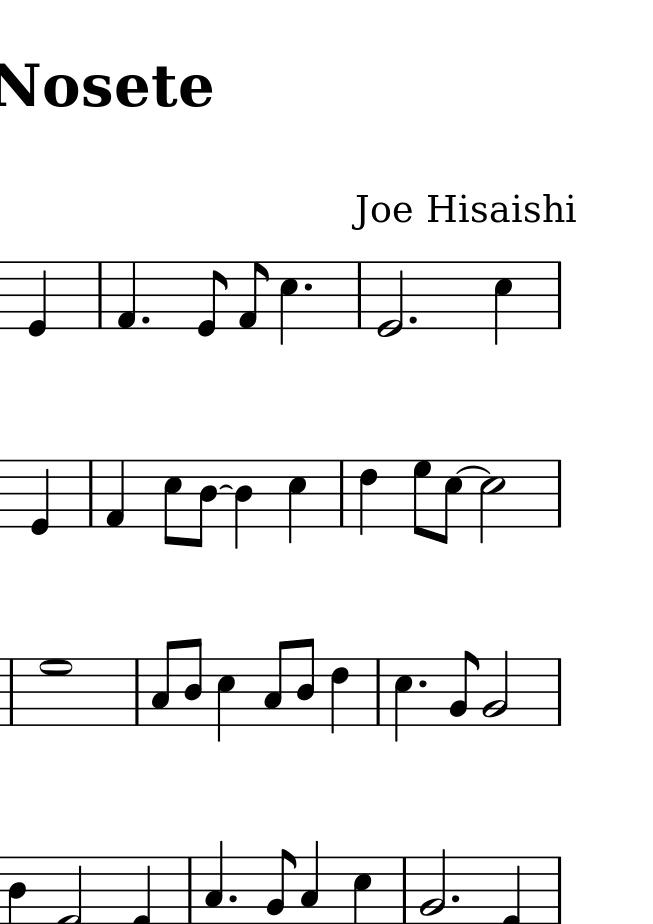2_0: (376, 257, 404, 340)
2_2: (418, 845, 447, 924), (484, 647, 511, 729)
2_5: (477, 459, 507, 545)
4_0: (26, 261, 50, 338), (29, 458, 50, 537)
4_1: (102, 458, 126, 528), (115, 260, 138, 329)
4_3: (203, 838, 225, 924), (299, 838, 321, 924)
4_4: (233, 458, 258, 550)
4_5: (285, 456, 309, 545), (277, 259, 300, 344), (493, 260, 515, 344), (393, 657, 413, 744), (215, 658, 235, 744)
4_6: (329, 656, 349, 736), (357, 458, 376, 539)
8_1: (239, 259, 270, 330)
8_2: (450, 649, 479, 725)
8_3: (150, 638, 178, 728), (261, 639, 288, 726)
8_4: (193, 457, 217, 551), (294, 636, 315, 729), (184, 636, 204, 729)
8_5: (437, 458, 464, 548), (161, 458, 181, 548)
8_7: (38, 656, 73, 727), (410, 457, 433, 538)
Rests8: (196, 259, 228, 340)
Single_barline: (81, 459, 100, 527), (180, 857, 199, 922), (550, 658, 568, 725), (369, 658, 387, 724), (91, 262, 109, 327), (549, 262, 567, 327), (334, 459, 351, 526), (129, 659, 146, 723), (3, 658, 19, 725), (551, 459, 566, 528), (352, 262, 367, 328), (397, 857, 412, 922)
Slur: (454, 461, 491, 477)
Staccatissimo: (416, 677, 428, 692), (227, 893, 241, 905), (303, 280, 316, 292), (140, 315, 152, 327)
dot: (406, 313, 420, 329), (449, 892, 462, 906)
